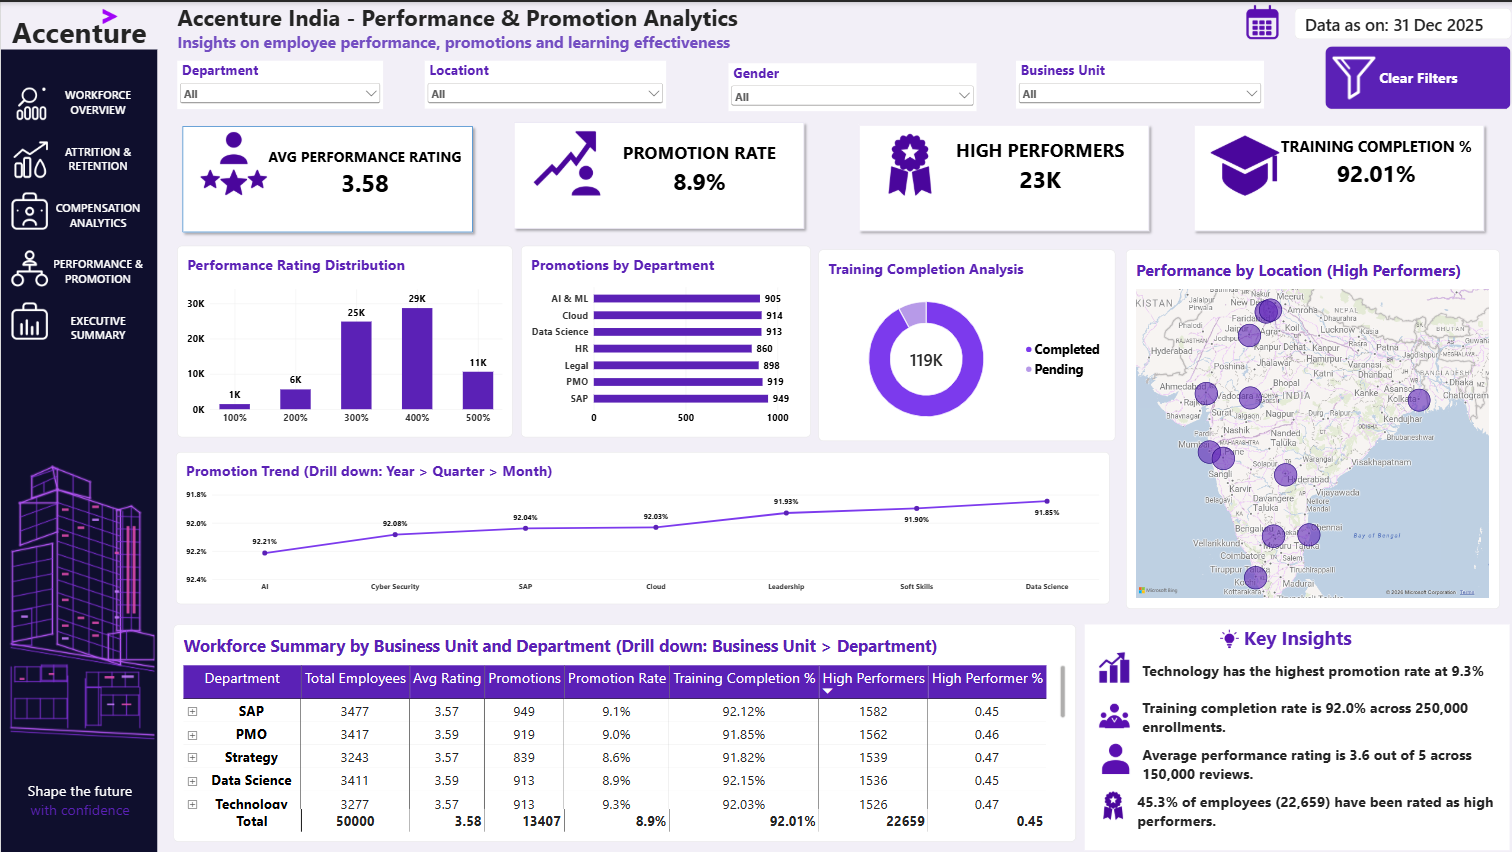

The dashboard page shown, as its layout file describes it:
{"tool":"powerbi","page":{"name":"PERFORMANCE & PROMOTION","canvas":[2560,1440],"ordinal":3},"visuals":[{"type":"group","id":"g1","title":"Group 2","box":[0,0,264.6,1440.4],"z":0},{"type":"cardVisual","fields":{"Data":["MeasureTable.Data As On"]},"box":[2182.9,10.4,367.5,52.1],"z":0,"group":"g8"},{"type":"shape","box":[0,80.1,263.6,1360.3],"z":0,"group":"g1"},{"type":"shape","box":[855.7,195.1,507.6,197.2],"z":0,"group":"g6"},{"type":"shape","box":[1438.2,198.6,507.6,197.2],"z":0,"group":"g5"},{"type":"shape","box":[297.2,199,507.6,197.2],"z":0,"group":"g3"},{"type":"shape","box":[2003.9,199.5,507.6,197.2],"z":0,"group":"g4"},{"type":"textbox","box":[1828.9,1049.9,718.7,381.1],"z":0,"group":"g7"},{"type":"image","box":[2073.4,0,110.4,67.1],"z":1000,"group":"g8"},{"type":"textbox","box":[0,16.2,264.3,64.7],"z":1000,"group":"g1"},{"type":"group","id":"g2","title":"Group 3","box":[2234,62.3,316.4,122.2],"z":1000},{"type":"cardVisual","fields":{"Data":["MeasureTable.Promotion Rate"]},"box":[935.4,164.5,484.2,232.5],"z":1000,"group":"g6"},{"type":"cardVisual","fields":{"Data":["MeasureTable.High Performers"]},"box":[1516.8,164.9,474.6,225.3],"z":1000,"group":"g5"},{"type":"cardVisual","fields":{"Data":["MeasureTable.Avg Rating"]},"box":[406.9,174.5,414.7,227.7],"z":1000,"group":"g3"},{"type":"cardVisual","fields":{"Data":["MeasureTable.Training Completion %"]},"box":[2114.4,181.8,414.7,177.4],"z":1000,"group":"g4"},{"type":"textbox","box":[1925.8,1110.4,622.2,57.3],"z":1000,"group":"g7"},{"type":"image","box":[163.6,0,37.8,48.5],"z":2000,"group":"g1"},{"type":"slicer","fields":{"Values":["DimDepartment.Business Unit"]},"box":[1711.5,98.3,418.4,80.8],"z":2000},{"type":"image","box":[875.5,207,152.9,130.7],"z":2000,"group":"g6"},{"type":"image","box":[1458,210.5,152.9,130.7],"z":2000,"group":"g5"},{"type":"image","box":[317,210.9,152.9,130.7],"z":2000,"group":"g3"},{"type":"image","box":[2023.7,211.5,152.9,130.7],"z":2000,"group":"g4"},{"type":"textbox","box":[1925.8,1175.4,622.2,68.8],"z":2000,"group":"g7"},{"type":"slicer","fields":{"Values":["DimDepartment.DepartmentName"]},"box":[297.2,98.1,347.6,81.5],"z":3000},{"type":"textbox","box":[1925.8,1251.8,622.2,87.2],"z":3000,"group":"g7"},{"type":"slicer","fields":{"Values":["DimEmployee.Gender"]},"box":[1227.3,103.1,418.4,80.8],"z":4000},{"type":"image","box":[2.1,761.3,261.5,508.3],"z":4000,"group":"g1"},{"type":"textbox","box":[1917.8,1333,628,74.3],"z":4000,"group":"g7"},{"type":"slicer","fields":{"Values":["DimLocation.City"]},"box":[714.3,98.3,406.9,80.8],"z":5000},{"type":"image","box":[2.1,132.9,99.1,73.8],"z":5000,"group":"g1"},{"type":"image","box":[1845.9,1093.3,66.5,59.6],"z":5000,"group":"g7"},{"type":"textbox","box":[297.2,0,1184.1,98.3],"z":6000},{"type":"image","box":[4.2,227.8,97,78],"z":6000,"group":"g1"},{"type":"image","box":[1845.9,1172.4,66.5,59.6],"z":6000,"group":"g7"},{"type":"group","id":"g3","title":"Group 1","box":[297.2,174.5,524.4,227.7],"z":7000},{"type":"image","box":[0,310,97,82.2],"z":7000,"group":"g1"},{"type":"image","box":[1848.3,1246.7,66.5,59.6],"z":7000,"group":"g7"},{"type":"group","id":"g4","title":"Group 1","box":[2003.9,181.8,525.2,214.9],"z":8000},{"type":"image","box":[0,411.2,97,82.2],"z":8000,"group":"g1"},{"type":"image","box":[2039.2,1056.2,66.5,39],"z":8000,"group":"g7"},{"type":"group","id":"g5","title":"Group 1","box":[1438.2,164.9,553.2,230.9],"z":9000},{"type":"image","box":[0,495.6,97,82.2],"z":9000,"group":"g1"},{"type":"image","box":[1843.5,1325.8,66.5,59.6],"z":9000,"group":"g7"},{"type":"pageNavigator","box":[62.3,127,201.3,469.8],"z":10000,"group":"g1"},{"type":"group","id":"g6","title":"Group 1","box":[855.7,164.5,563.9,232.5],"z":10000},{"type":"clusteredColumnChart","title":"Performance Rating Distribution","fields":{"Category":["FactPerformance.PerformanceRating"],"Y":["MeasureTable.Performance Reviews"]},"box":[297.2,412.3,565.7,323.6],"z":11000},{"type":"textbox","box":[2.1,1313.9,262.5,75.5],"z":11000,"group":"g1"},{"type":"clusteredBarChart","title":"Promotions by Department","fields":{"Category":["DimDepartment.DepartmentName"],"Y":["MeasureTable.Promotions"]},"box":[877.3,412.3,489,323.6],"z":12000},{"type":"donutChart","title":"Training Completion Analysis","fields":{"Category":["FactTraining.Status"],"Y":["MeasureTable.Training Total"]},"box":[1378.3,417.1,501,323.6],"z":13000},{"type":"map","title":"Performance by Location (High Performers)","fields":{"Category":["DimLocation.City"],"Size":["MeasureTable.High Performers"]},"box":[1898.4,417.1,630.4,606.4],"z":14000},{"type":"pivotTable","title":"Workforce Summary by Business Unit and Department (Drill down: Business Unit > Department)","fields":{"Rows":["DimDepartment.DepartmentName","DimJobLevel.JobLevel"],"Values":["MeasureTable.Total Employees","MeasureTable.Avg Rating","MeasureTable.Promotions","MeasureTable.Promotion Rate","MeasureTable.Training Completion %","MeasureTable.High Performers","MeasureTable.High Performer %"]},"box":[290,1049.9,1522.1,366.7],"z":15000},{"type":"group","id":"g7","title":"Group 4","box":[1828.9,1049.9,719.1,381.1],"z":16000},{"type":"lineChart","title":"Promotion Trend (Drill down: Year > Quarter > Month)","fields":{"Category":["FactTraining.CourseCategory"],"Y":["MeasureTable.Training Completion %"]},"box":[294.8,759.9,1574.8,256.5],"z":17000},{"type":"group","id":"g8","title":"Group 3","box":[2073.4,0,477,67.1],"z":17001},{"type":"actionButton","box":[2234,71.9,316.4,107.9],"z":28000,"group":"g2"},{"type":"image","box":[2234,62.3,98.3,122.2],"z":29000,"group":"g2"}]}

Visuals, with their boxes on the page's 2560x1440 design canvas (x1, y1, x2, y2). These are canvas units, not pixel positions in the 1512x852 screenshot, which may show the page scaled, cropped or inside an application window:
"Group 2" group: crop(0, 0, 265, 1440)
cardVisual - MeasureTable.Data As On: crop(2183, 10, 2550, 62)
shape: crop(0, 80, 264, 1440)
shape: crop(856, 195, 1363, 392)
shape: crop(1438, 199, 1946, 396)
shape: crop(297, 199, 805, 396)
shape: crop(2004, 200, 2512, 397)
textbox: crop(1829, 1050, 2548, 1431)
image: crop(2073, 0, 2184, 67)
textbox: crop(0, 16, 264, 81)
"Group 3" group: crop(2234, 62, 2550, 184)
cardVisual - MeasureTable.Promotion Rate: crop(935, 164, 1420, 397)
cardVisual - MeasureTable.High Performers: crop(1517, 165, 1991, 390)
cardVisual - MeasureTable.Avg Rating: crop(407, 174, 822, 402)
cardVisual - MeasureTable.Training Completion %: crop(2114, 182, 2529, 359)
textbox: crop(1926, 1110, 2548, 1168)
image: crop(164, 0, 201, 48)
slicer - DimDepartment.Business Unit: crop(1712, 98, 2130, 179)
image: crop(876, 207, 1028, 338)
image: crop(1458, 210, 1611, 341)
image: crop(317, 211, 470, 342)
image: crop(2024, 212, 2177, 342)
textbox: crop(1926, 1175, 2548, 1244)
slicer - DimDepartment.DepartmentName: crop(297, 98, 645, 180)
textbox: crop(1926, 1252, 2548, 1339)
slicer - DimEmployee.Gender: crop(1227, 103, 1646, 184)
image: crop(2, 761, 264, 1270)
textbox: crop(1918, 1333, 2546, 1407)
slicer - DimLocation.City: crop(714, 98, 1121, 179)
image: crop(2, 133, 101, 207)
image: crop(1846, 1093, 1912, 1153)
textbox: crop(297, 0, 1481, 98)
image: crop(4, 228, 101, 306)
image: crop(1846, 1172, 1912, 1232)
"Group 1" group: crop(297, 174, 822, 402)
image: crop(0, 310, 97, 392)
image: crop(1848, 1247, 1915, 1306)
"Group 1" group: crop(2004, 182, 2529, 397)
image: crop(0, 411, 97, 493)
image: crop(2039, 1056, 2106, 1095)
"Group 1" group: crop(1438, 165, 1991, 396)
image: crop(0, 496, 97, 578)
image: crop(1844, 1326, 1910, 1385)
pageNavigator: crop(62, 127, 264, 597)
"Group 1" group: crop(856, 164, 1420, 397)
"Performance Rating Distribution" clusteredColumnChart: crop(297, 412, 863, 736)
textbox: crop(2, 1314, 265, 1389)
"Promotions by Department" clusteredBarChart: crop(877, 412, 1366, 736)
"Training Completion Analysis" donutChart: crop(1378, 417, 1879, 741)
"Performance by Location (High Performers)" map: crop(1898, 417, 2529, 1024)
"Workforce Summary by Business Unit and Department (Drill down: Business Unit > Department)" pivotTable: crop(290, 1050, 1812, 1417)
"Group 4" group: crop(1829, 1050, 2548, 1431)
"Promotion Trend (Drill down: Year > Quarter > Month)" lineChart: crop(295, 760, 1870, 1016)
"Group 3" group: crop(2073, 0, 2550, 67)
actionButton: crop(2234, 72, 2550, 180)
image: crop(2234, 62, 2332, 184)
